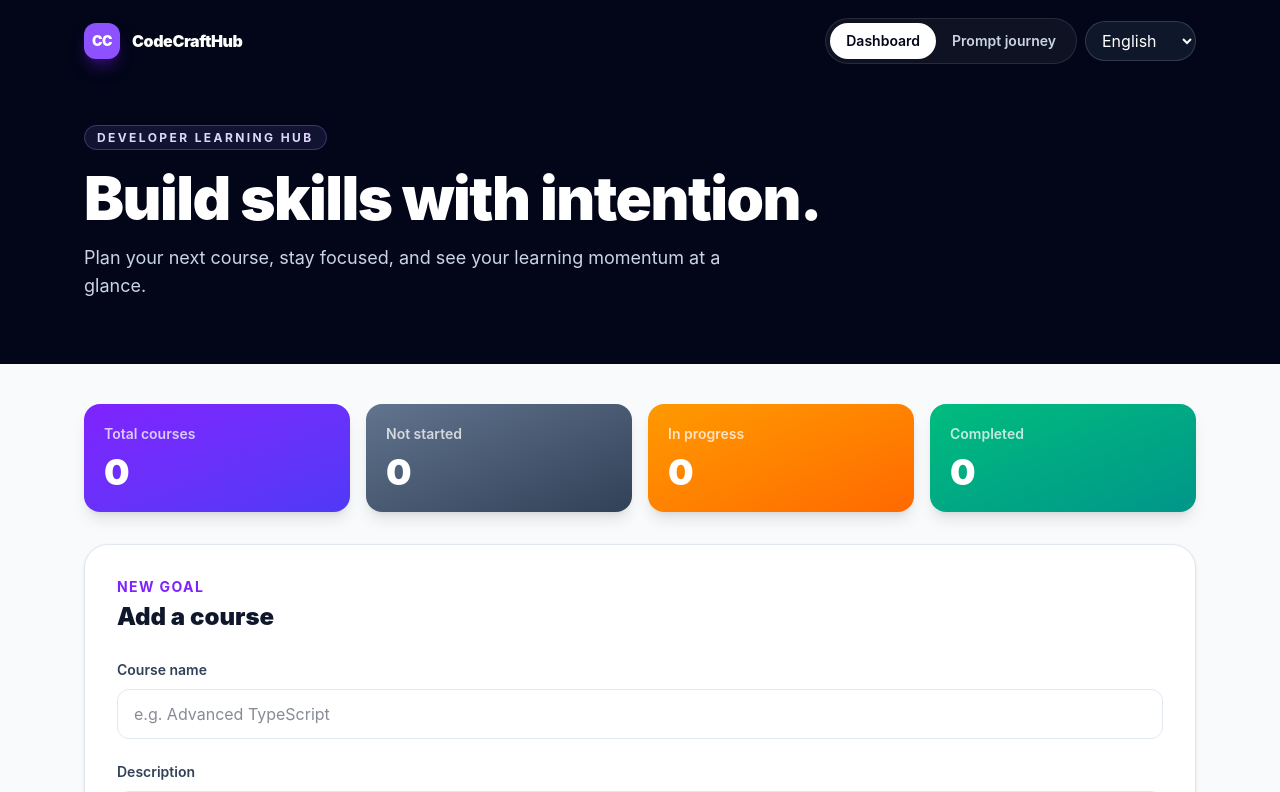
Test: CodeCraftHub dashboard › creates a course from the form
Type "TypeScript" into the field labelled "Course name".
click(640, 714); type("TypeScript")  # box x1=117 y1=689 x2=1163 y2=739
(page scrolled)
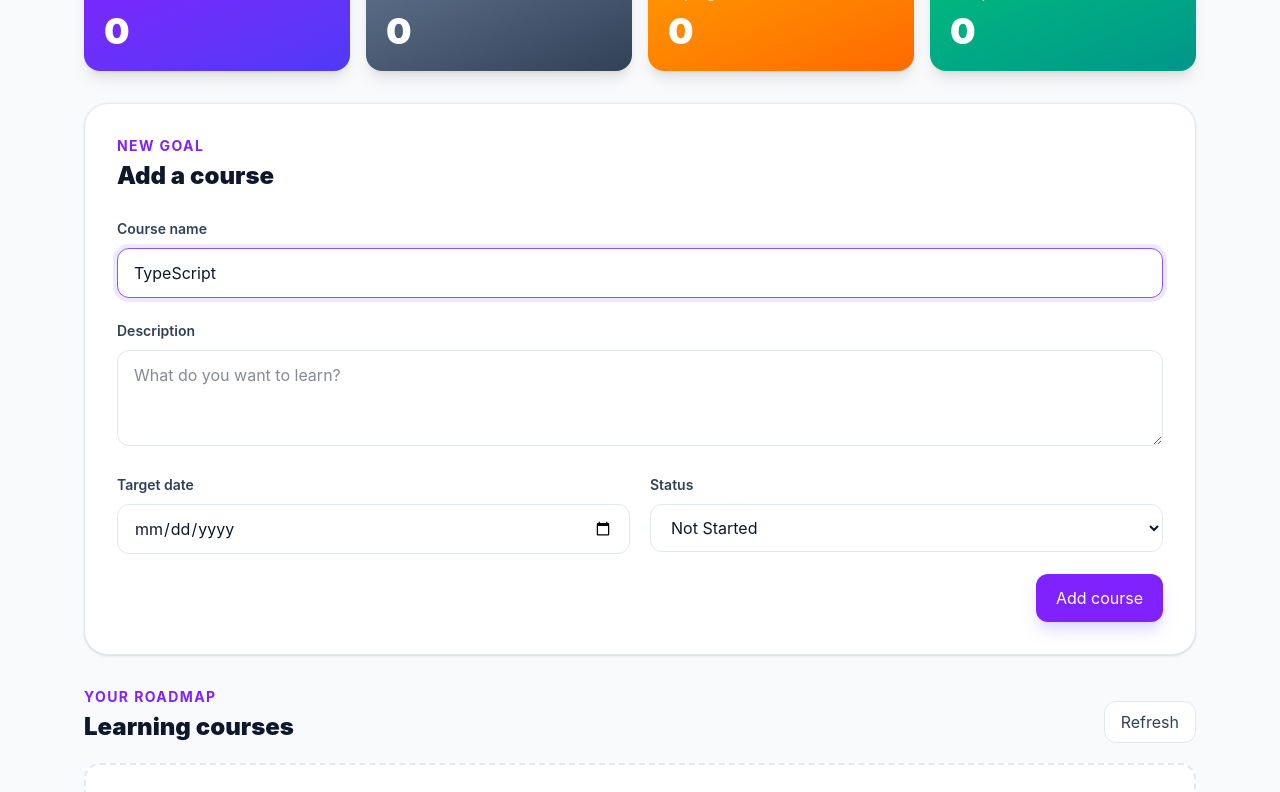
Type "Learn type safety" into the text box labelled "Description".
click(640, 398); type("Learn type safety")  # box x1=117 y1=350 x2=1163 y2=446
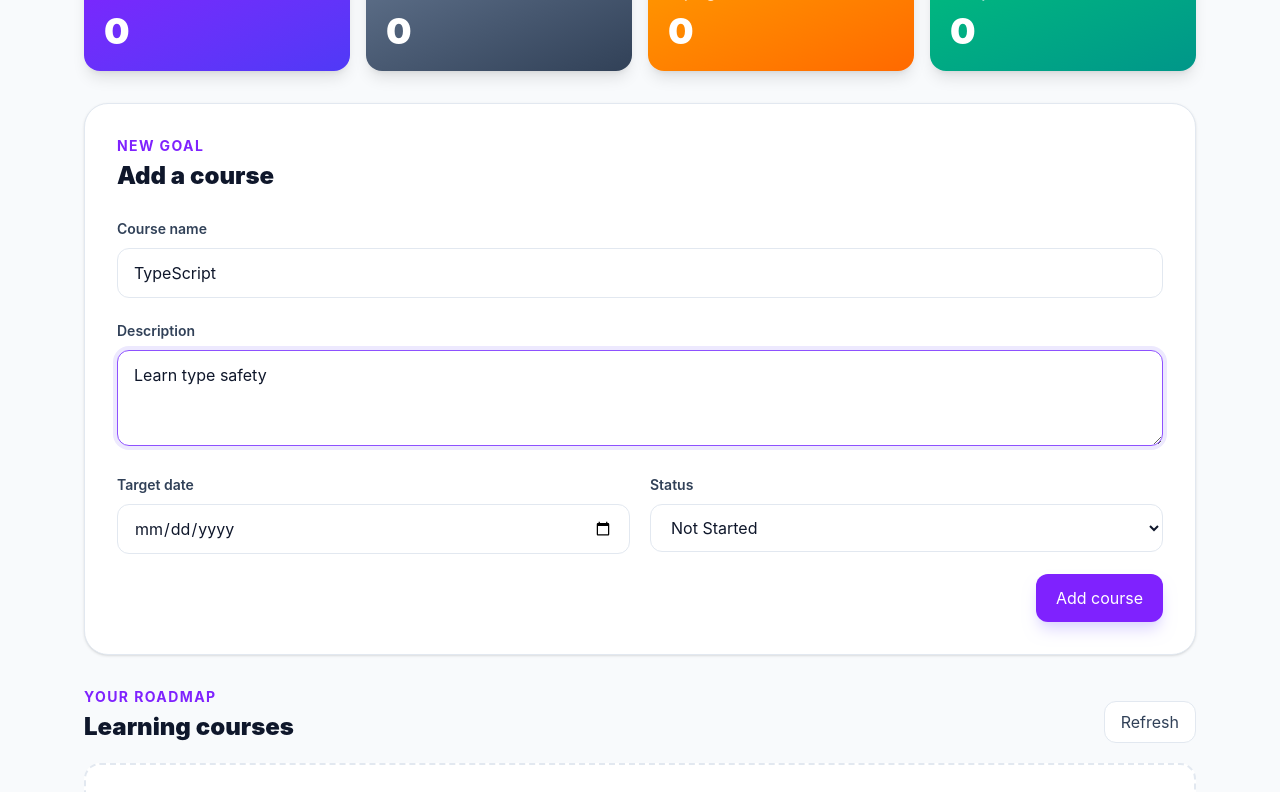
Type "2026-12-20" into the date field labelled "Target date".
click(374, 529); type("2026-12-20")  # box x1=117 y1=504 x2=630 y2=554
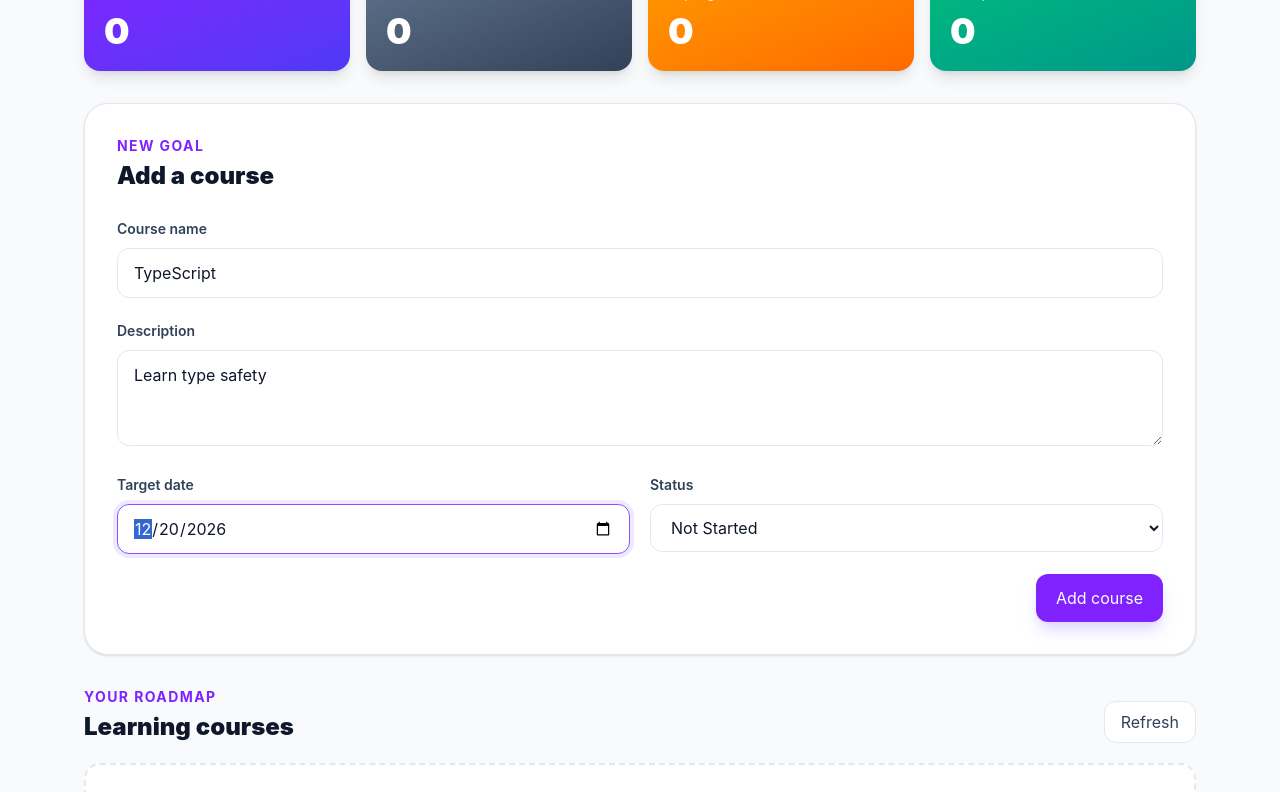
Click the button "Add course".
click(1099, 598)  # box x1=1036 y1=574 x2=1163 y2=622
(page scrolled)
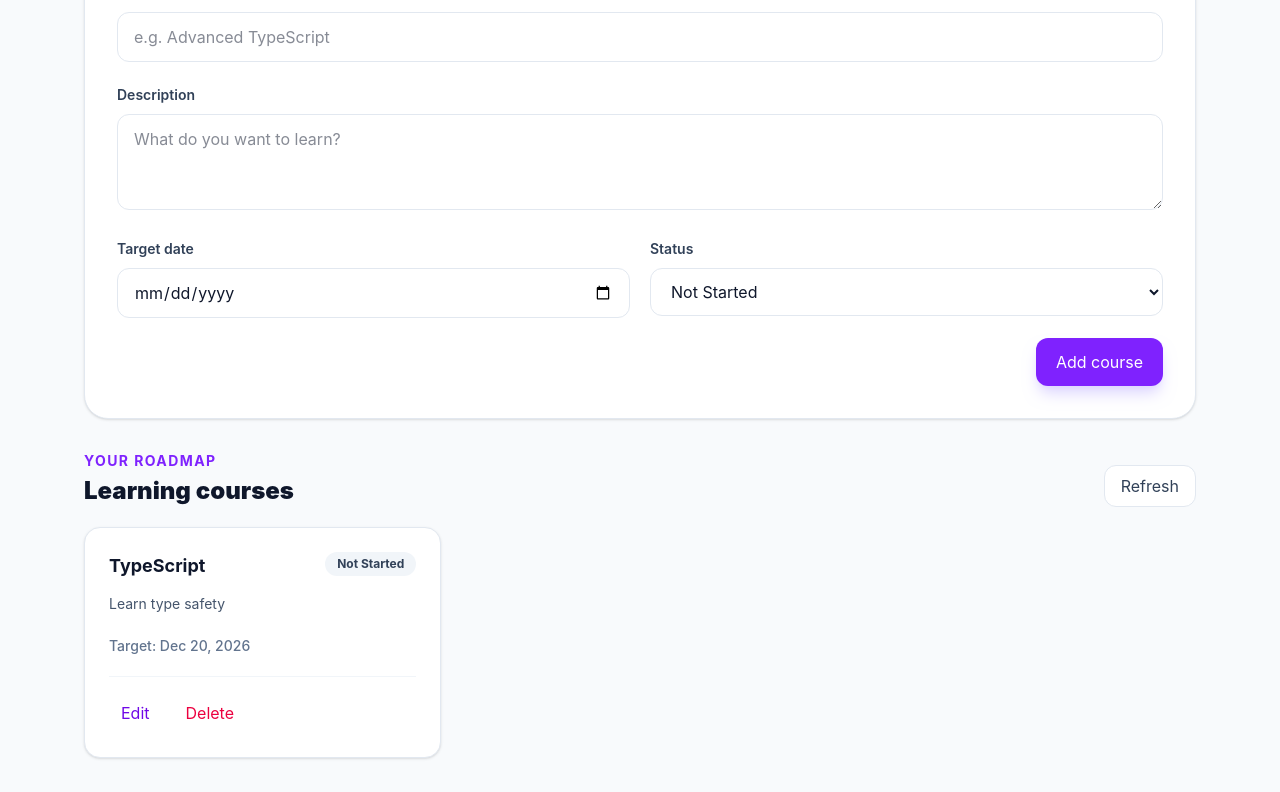
Result: the heading "TypeScript" is shown at x1=109 y1=552 x2=205 y2=580
